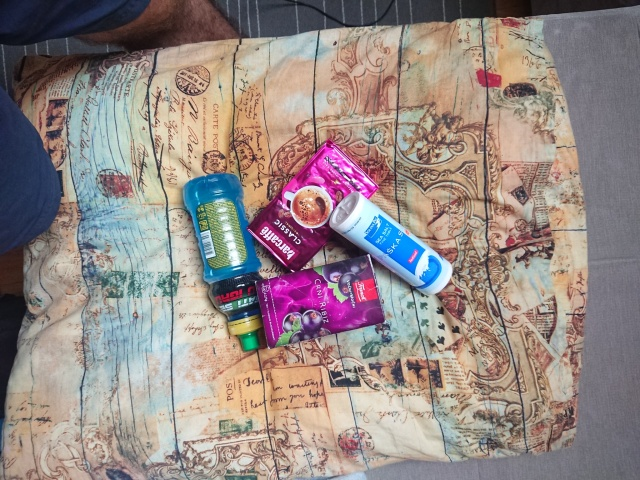Barcaffe Classic Original 225g: (244, 134, 381, 276)
Franck Black Currant Tea 60g: (252, 251, 389, 351)
Solana Pag Fine Sea Salt 250g: (327, 189, 455, 298)
Vindi Iso Sport Forest Strawberries 500mL: (180, 170, 269, 354)
